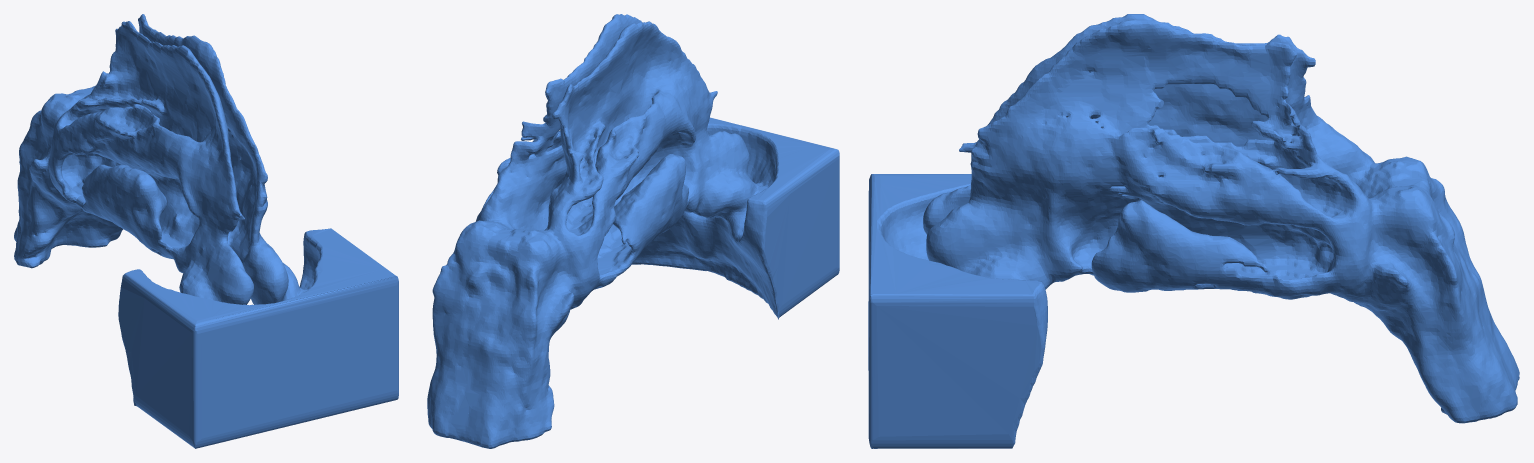
The model's file is 3DPX-023687.glb.
3 renders of one model, left to right at view 1: azimuth 30°, elevation 25°; view 2: azimuth 150°, elevation 25°; view 3: azimuth 270°, elevation 25°, orthographic. The views are drawn at different scales.
Parts seen in each view (by area): view 1: pf000-repaired-nih3d; view 2: pf000-repaired-nih3d; view 3: pf000-repaired-nih3d.
Part boxes in pixels (x1,y1,x2,y2): pf000-repaired-nih3d: (14,14,398,448); pf000-repaired-nih3d: (427,14,839,448); pf000-repaired-nih3d: (868,14,1519,448).
Size of the model in its own units: 49.13 by 69.02 by 108.
